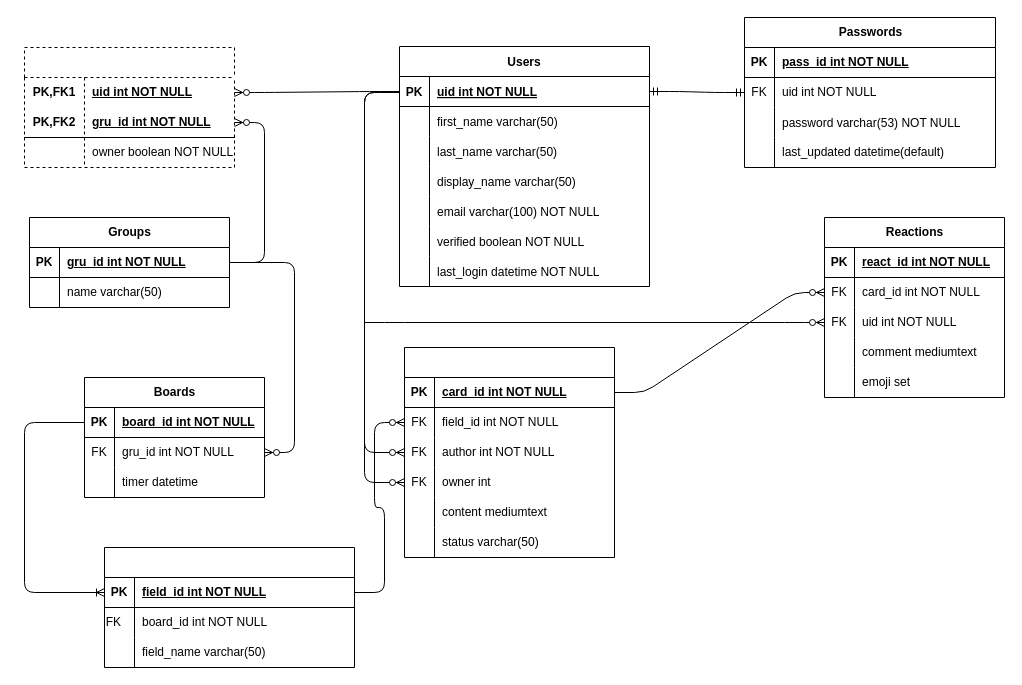
Some shapes in this 1022 by 685 pixel diagram are drawn without their labels. Each missing label, with the box of its shape:
Cards: (404, 346, 614, 558)
Fields: (104, 546, 354, 668)
User_Memberships: (24, 46, 234, 168)
